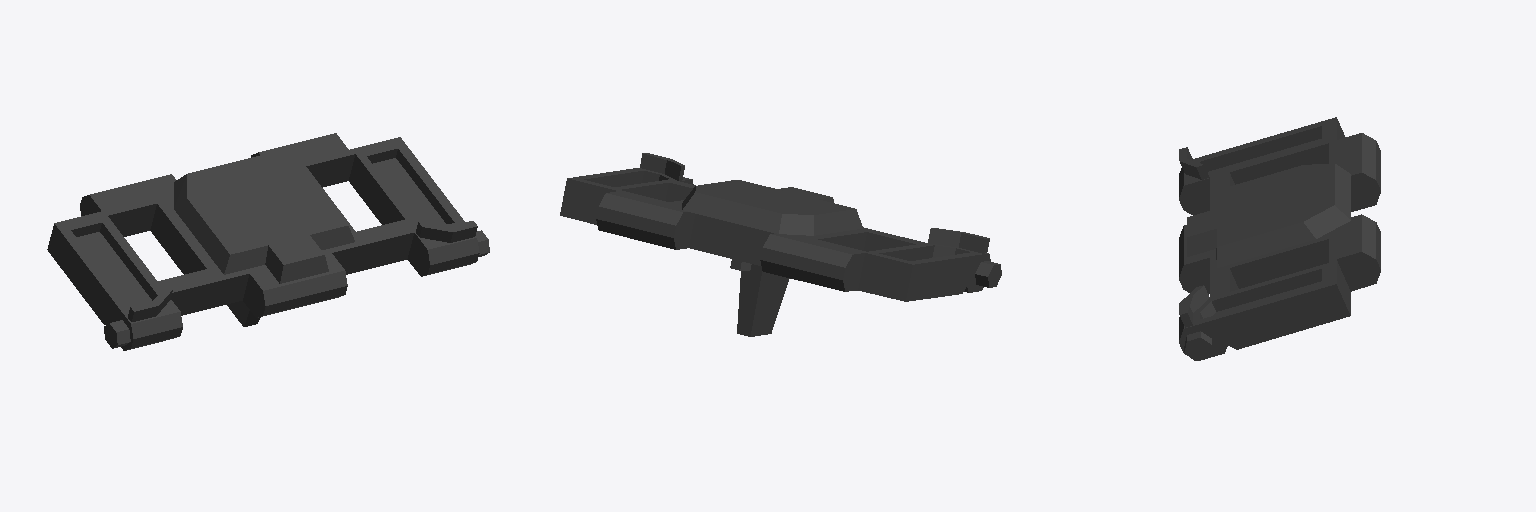
File: Track.obj
3 renders of one model, left to right at view 1: azimuth 30°, elevation 25°; view 2: azimuth 150°, elevation 25°; view 3: azimuth 270°, elevation 25°, orthographic.
Parts seen in each view (by area): view 1: Box461; view 2: Box461; view 3: Box461.
Part boxes in pixels (bbox=[...]): Box461: bbox=[47, 133, 489, 350]; Box461: bbox=[560, 153, 1001, 336]; Box461: bbox=[1179, 117, 1380, 360].
Size of the model in its own units: 11.3 by 4.23 by 5.32.